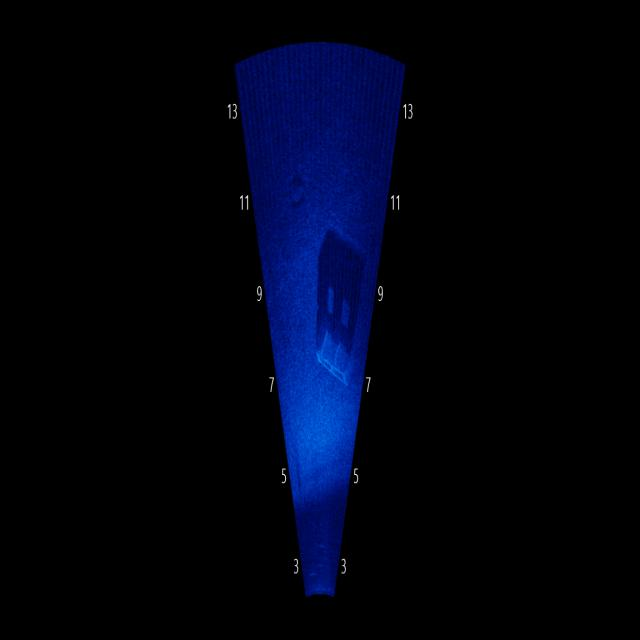circle: (285, 166, 308, 213)
square: (309, 315, 363, 400)
